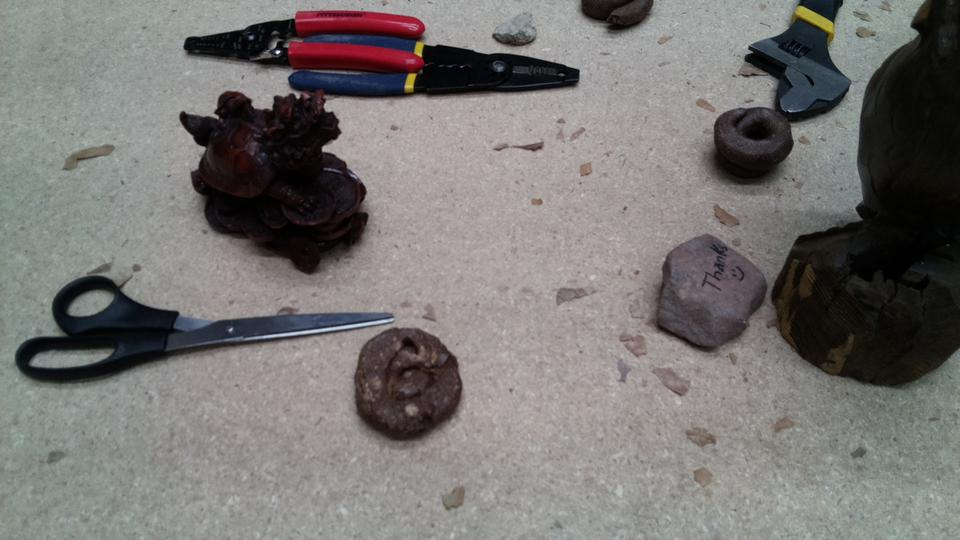poop: (351, 326, 464, 445), (711, 106, 794, 183), (579, 1, 657, 32)
